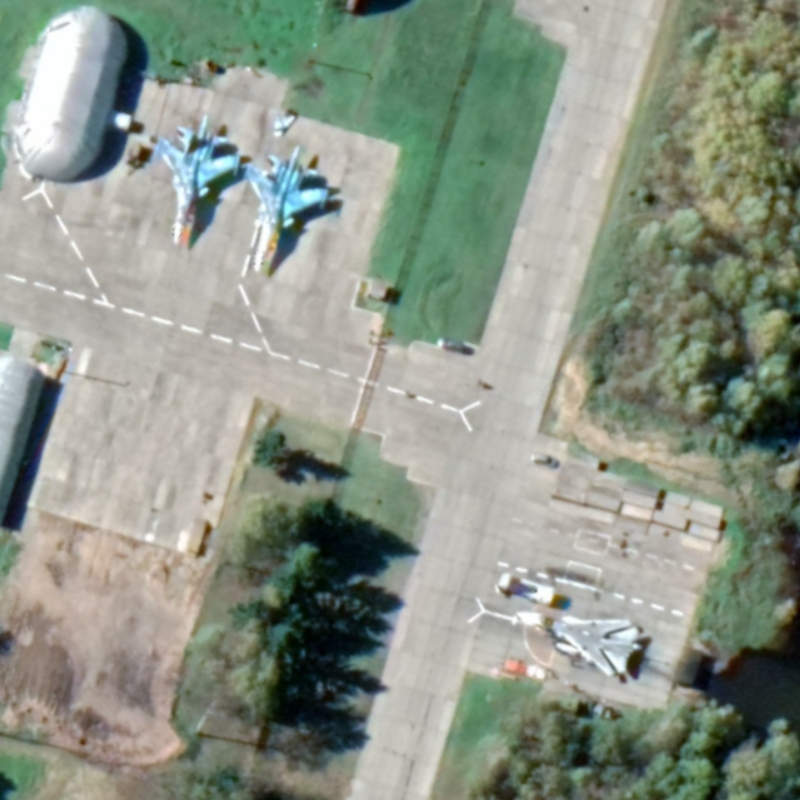A19: (150, 112, 242, 247), (240, 143, 332, 275)
A20: (514, 608, 644, 678)
